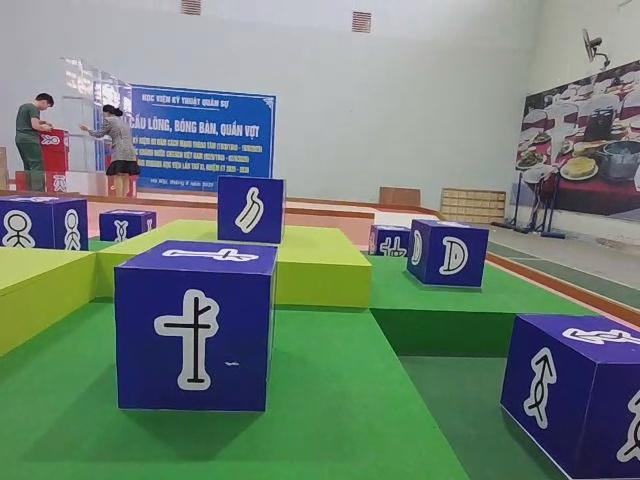R2 Real Blue: (116, 231, 283, 416), (501, 313, 639, 480), (406, 221, 490, 292), (0, 196, 86, 252), (215, 178, 284, 247), (100, 209, 158, 242), (366, 222, 411, 256)
